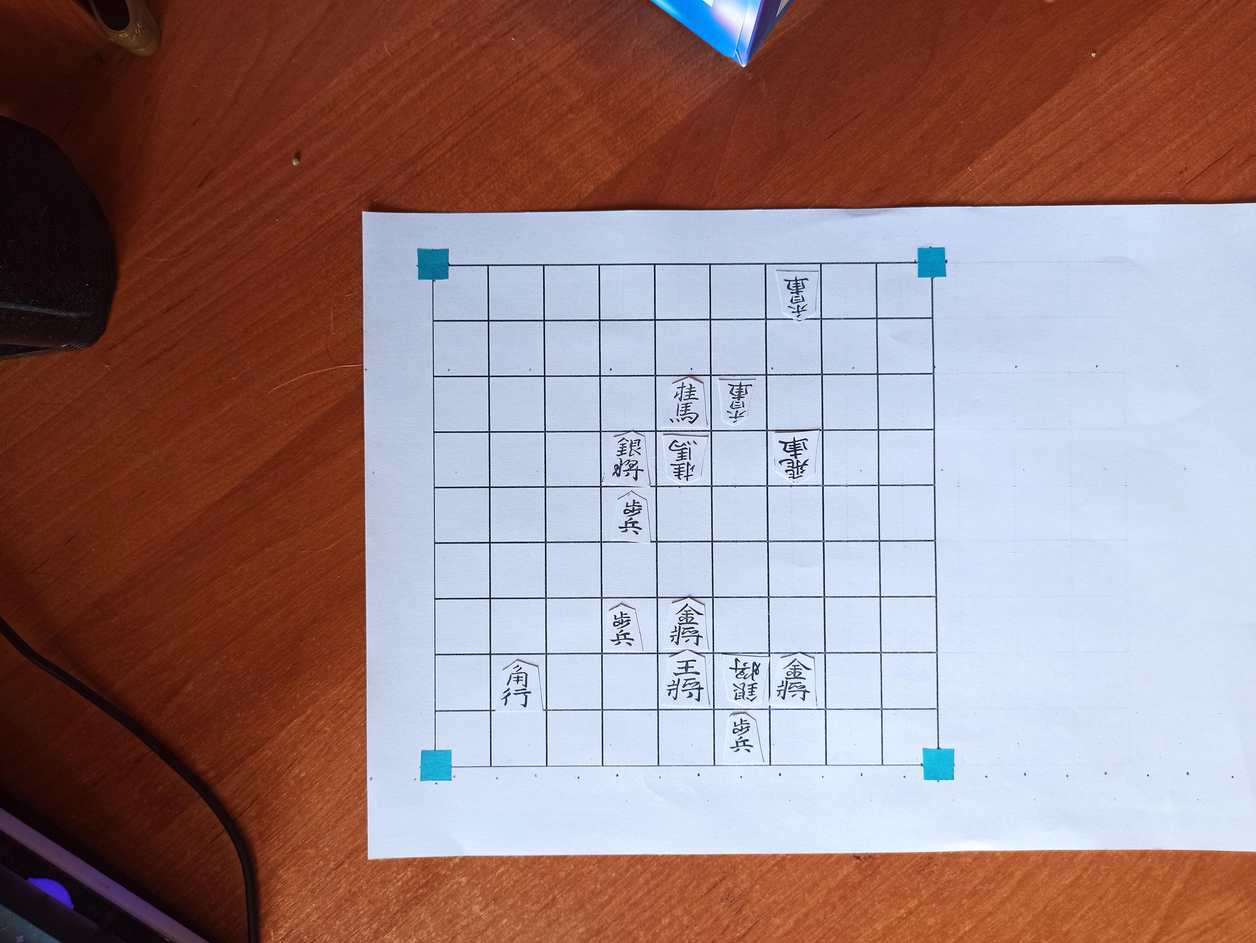board: (432, 262, 938, 766)
